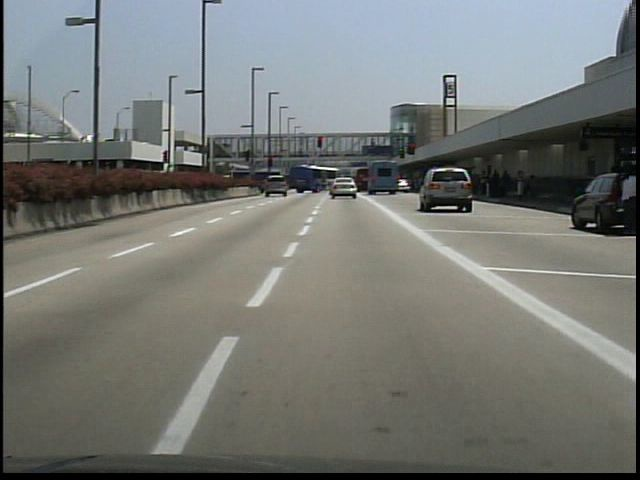person: (614, 164, 640, 232)
